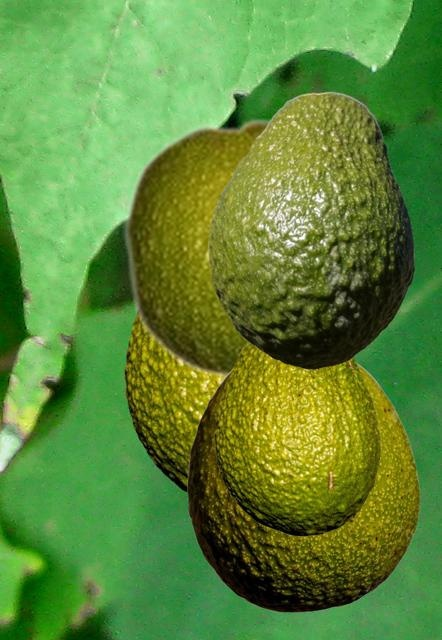avocado: (187, 363, 419, 611), (208, 91, 413, 368), (122, 116, 270, 382), (214, 342, 379, 535), (124, 313, 221, 493)
